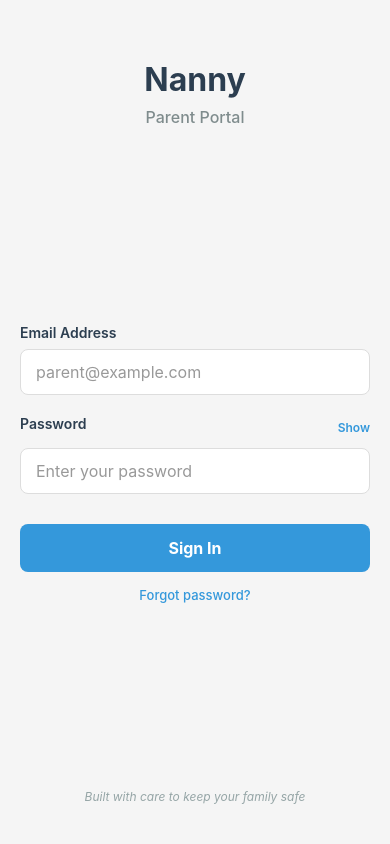
Test case: LoginScreen › Validation › should show error for invalid email format
In the field with test id "email-input": (195, 372) [20,348,370,394], type "invalid-email"
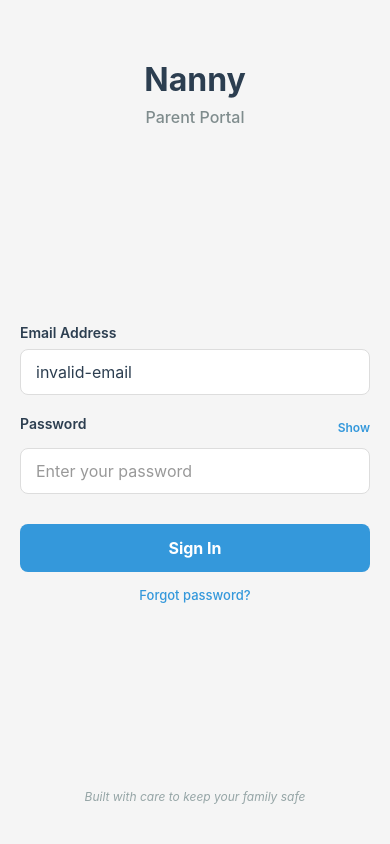
In the password field with test id "password-input": (195, 470) [20,448,370,494], type "password123"
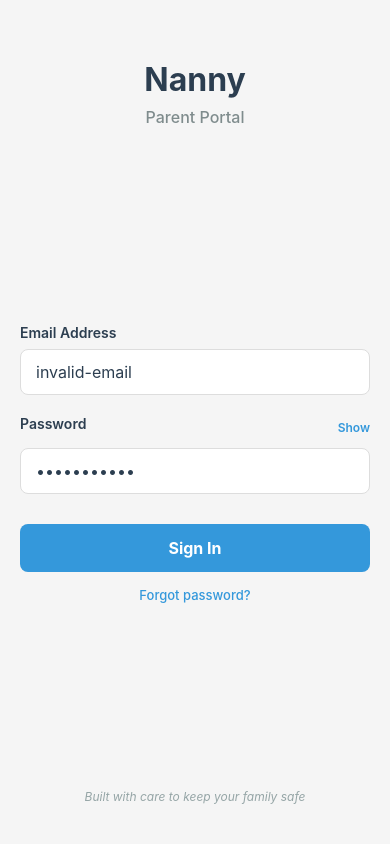
Click the element with test id "login-button": click(195, 548) [20,524,370,572]
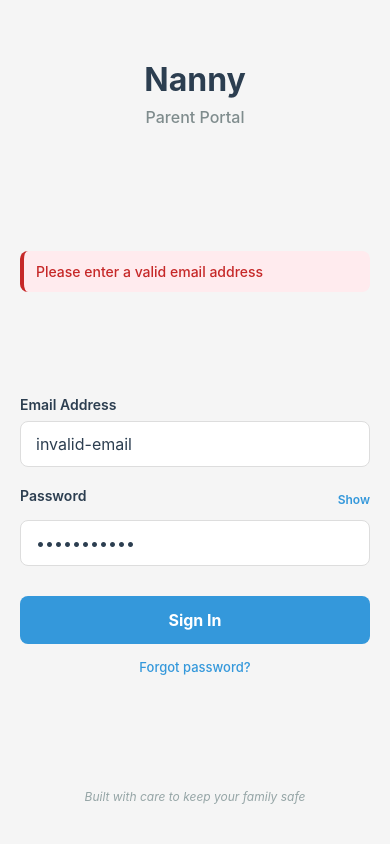
Check: the text "Please enter a valid email address" is shown, box [36,263,263,280]
